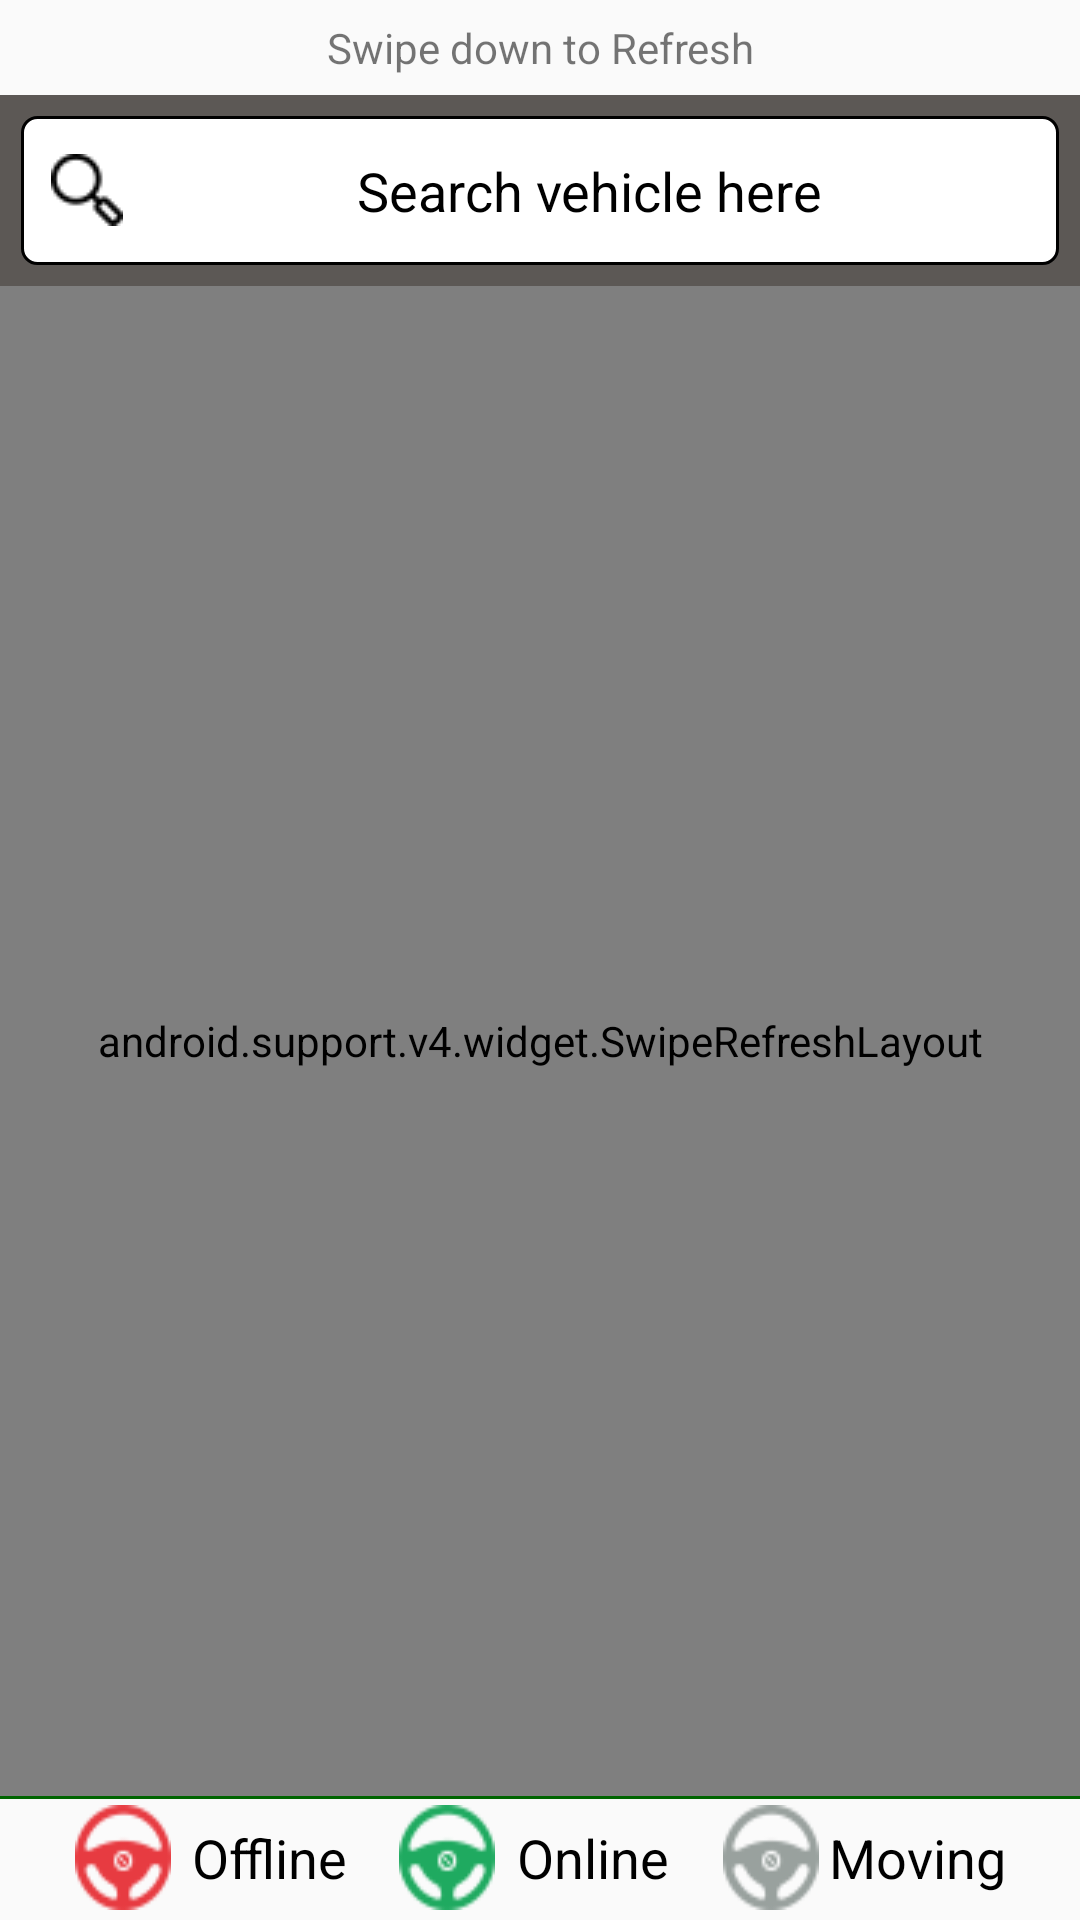

Named icons in this screenshot (1080 x 1920) and their centers, (x,y):
greendrive: (447,1857)
greydrive: (771,1857)
